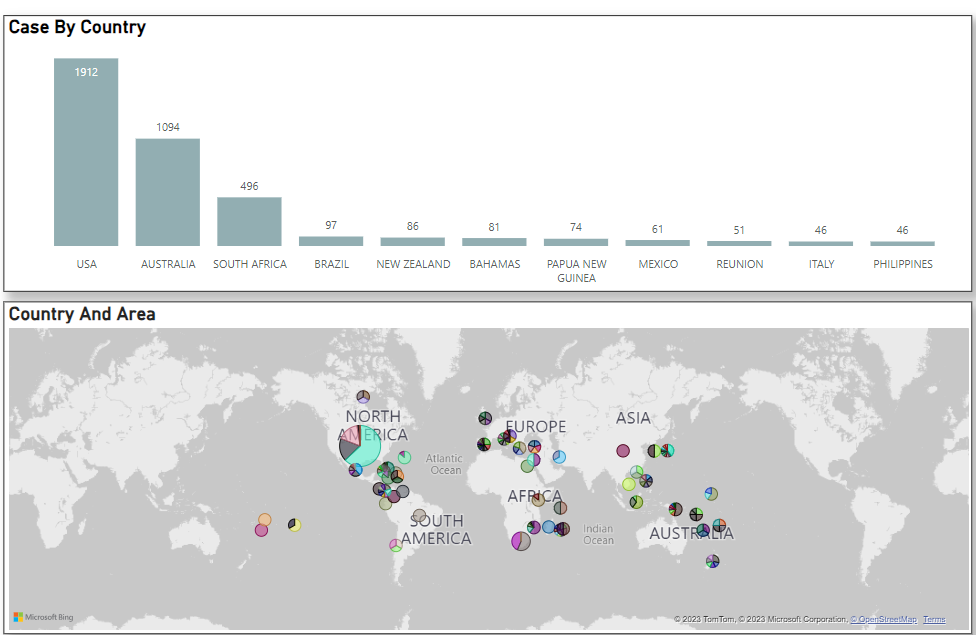

The page's visual inventory and layout, read from the dashboard file:
{"tool":"powerbi","page":{"name":"Country","canvas":[1280,720],"ordinal":3},"visuals":[{"type":"columnChart","title":"Case By Country","fields":{"Category":["Sharkattacks.Country","Sharkattacks.Area","Sharkattacks.Location"],"Y":["CountNonNull(Sharkattacks.CaseNumber)"]},"box":[200.2,28.8,1062.6,303],"z":0},{"type":"shape","box":[0,0,183.7,719.8],"z":1000},{"type":"map","title":"Country And Area","fields":{"Category":["Sharkattacks.Country"],"Series":["Sharkattacks.Area"],"Size":["CountNonNull(Sharkattacks.CaseNumber)"]},"box":[200.2,342.8,1062.6,364.7],"z":2000}]}

Visuals, with their boxes on the page's 1280x720 design canvas (x1, y1, x2, y2). These are canvas units, not pixel positions in the 976x635 screenshot, which may show the page scaled, cropped or inside an application window:
"Case By Country" columnChart: pyautogui.locateOnScreen(200, 29, 1263, 332)
shape: pyautogui.locateOnScreen(0, 0, 184, 720)
"Country And Area" map: pyautogui.locateOnScreen(200, 343, 1263, 708)
